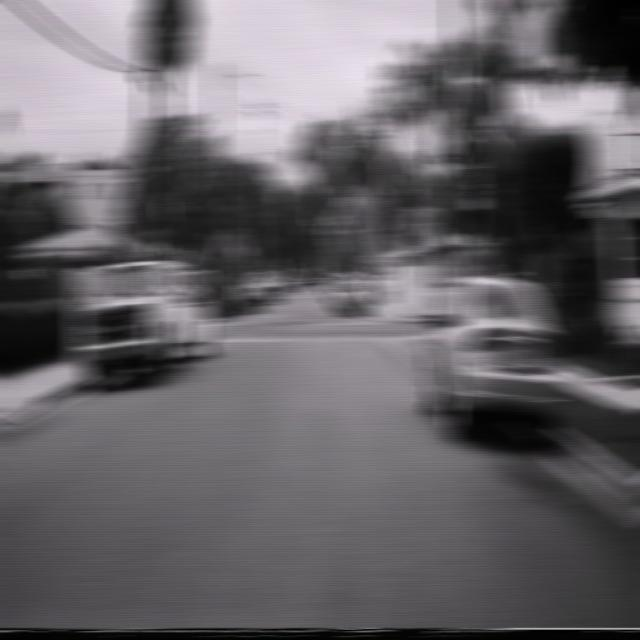stop_sign: (410, 208, 440, 248)
